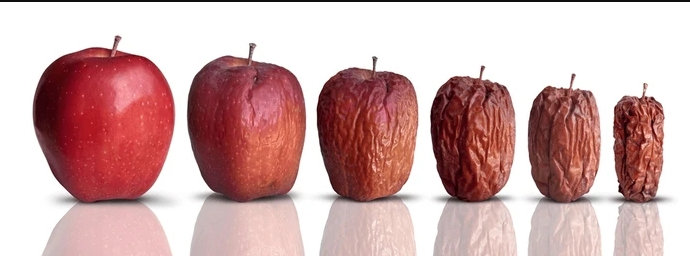apple: (314, 44, 428, 205), (197, 43, 306, 200), (435, 70, 518, 206), (531, 73, 604, 200), (614, 82, 669, 203)
apple/: (25, 23, 187, 205)
